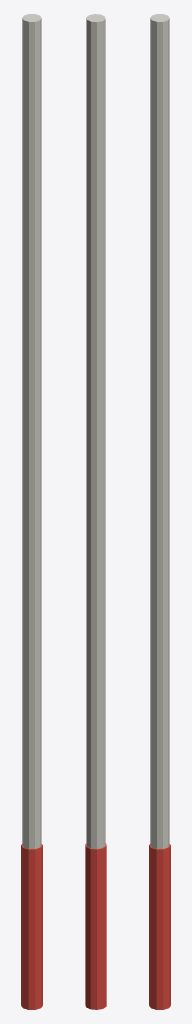
The model's file is goal_post.glb.
3 renders of one model, left to right at view 1: azimuth 90°, elevation 25°; view 2: azimuth 150°, elevation 25°; view 3: azimuth 270°, elevation 25°, orthographic.
Visible parts, largest first — view 1: GoalPost; view 2: GoalPost; view 3: GoalPost.
Boxes of the visible parts, <box> form: GoalPost: <box>21,14,42,1009</box>; GoalPost: <box>85,14,106,1009</box>; GoalPost: <box>149,14,170,1009</box>.
Bounding box in the file's own units: 0.1917 × 10 × 0.2016.
